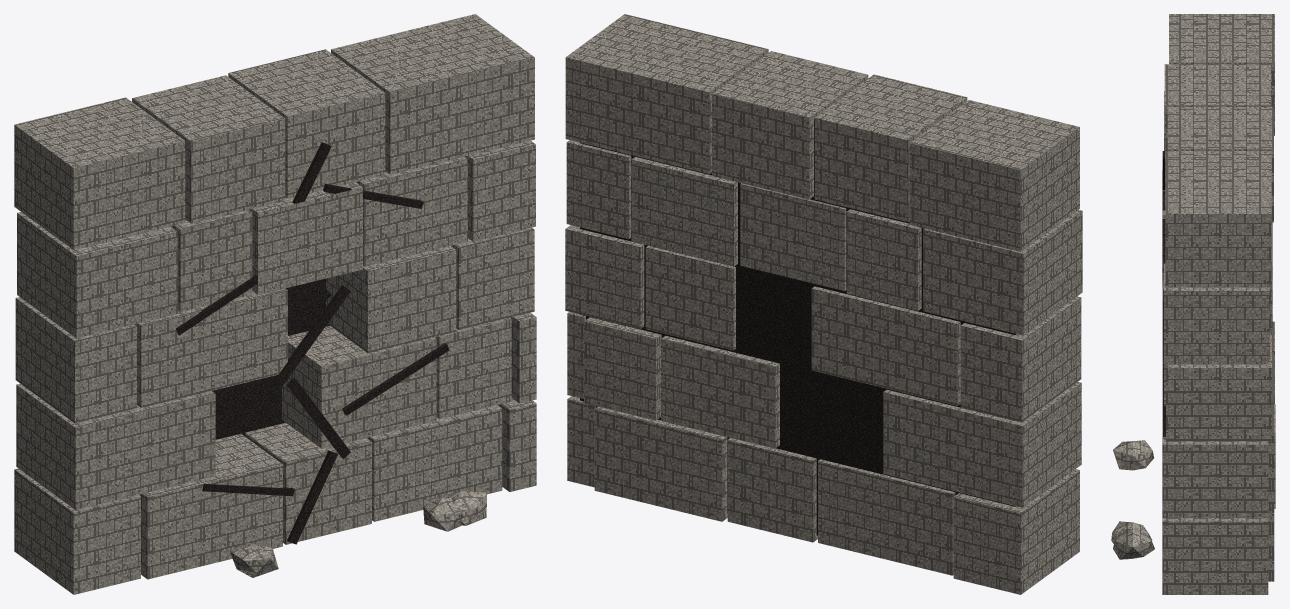
Rendered from wall_cracked_stone.glb.
3 renders of one model, left to right at view 1: azimuth 30°, elevation 25°; view 2: azimuth 150°, elevation 25°; view 3: azimuth 270°, elevation 25°, orthographic. The views are drawn at different scales.
Visible parts, largest first — view 1: Body; view 2: Body; view 3: Body.
Boxes of the visible parts, x1=… form: Body: x1=14, y1=14, x2=536, y2=594; Body: x1=565, y1=14, x2=1082, y2=594; Body: x1=1111, y1=14, x2=1275, y2=594.
Size of the model in its own units: 3.57 by 3.22 by 1.24.
Materials: 2 (2 with a texture image).
